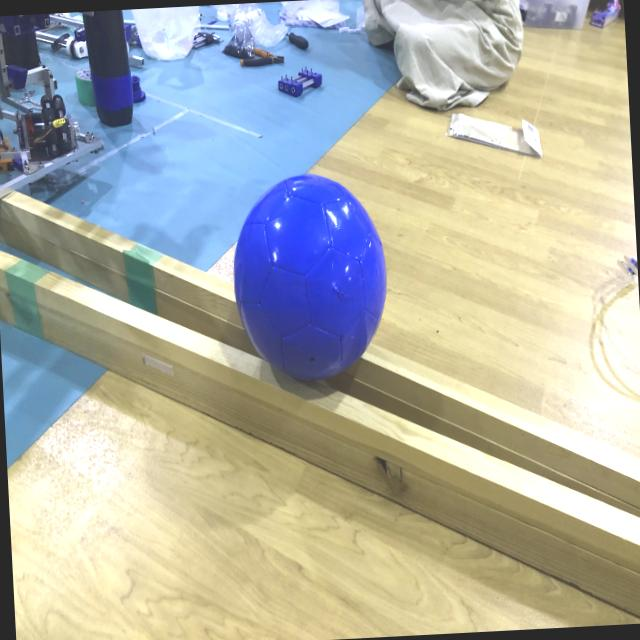blue_ball: (228, 170, 391, 382)
